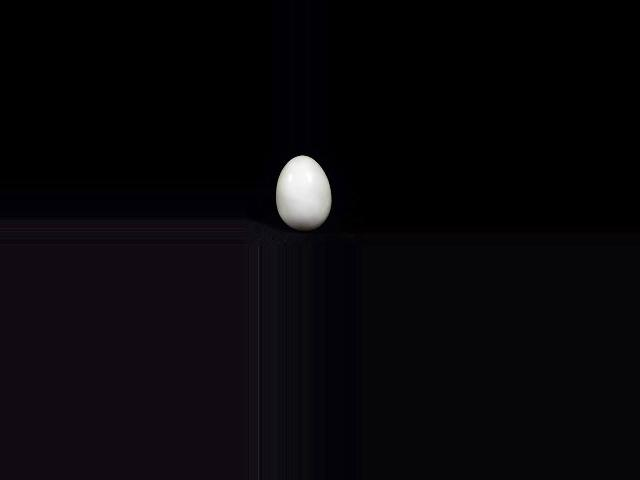egg: (276, 156, 330, 232)
